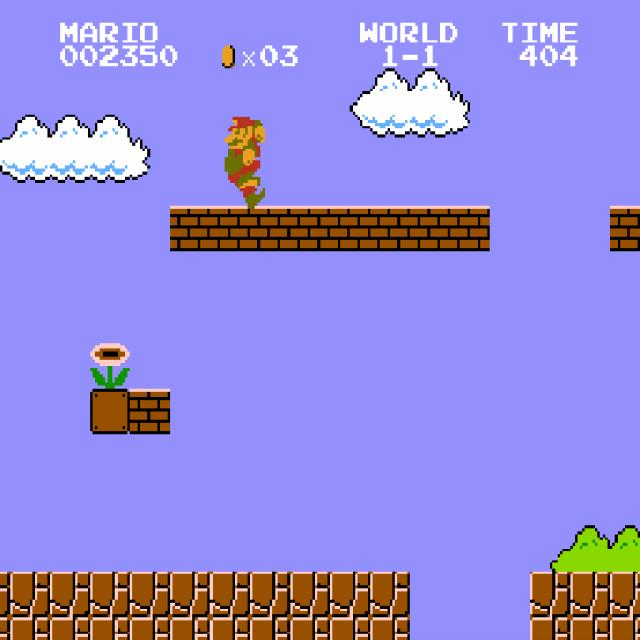big_mario: (222, 114, 265, 208)
brick_block: (130, 389, 170, 434), (170, 206, 210, 251), (210, 206, 250, 251), (250, 206, 290, 251), (290, 206, 330, 251), (330, 206, 370, 251), (370, 206, 410, 251), (410, 206, 450, 251), (450, 206, 490, 251), (610, 206, 640, 251)
empty_block: (90, 389, 130, 434)
flower: (88, 340, 130, 389)
undestructible_block: (10, 572, 50, 617), (50, 572, 90, 617), (90, 572, 130, 617), (130, 572, 170, 617), (170, 572, 210, 617), (210, 572, 250, 617), (250, 572, 290, 617), (290, 572, 330, 617), (330, 572, 370, 617), (370, 572, 410, 617), (530, 572, 570, 617), (570, 572, 610, 617), (610, 572, 640, 617), (10, 617, 50, 640), (50, 617, 90, 640), (90, 617, 130, 640), (130, 617, 170, 640), (170, 617, 210, 640), (210, 617, 250, 640), (250, 617, 290, 640), (290, 617, 330, 640), (330, 617, 370, 640), (370, 617, 410, 640), (530, 617, 570, 640), (570, 617, 610, 640), (610, 617, 640, 640), (0, 571, 10, 617), (0, 617, 10, 639)
